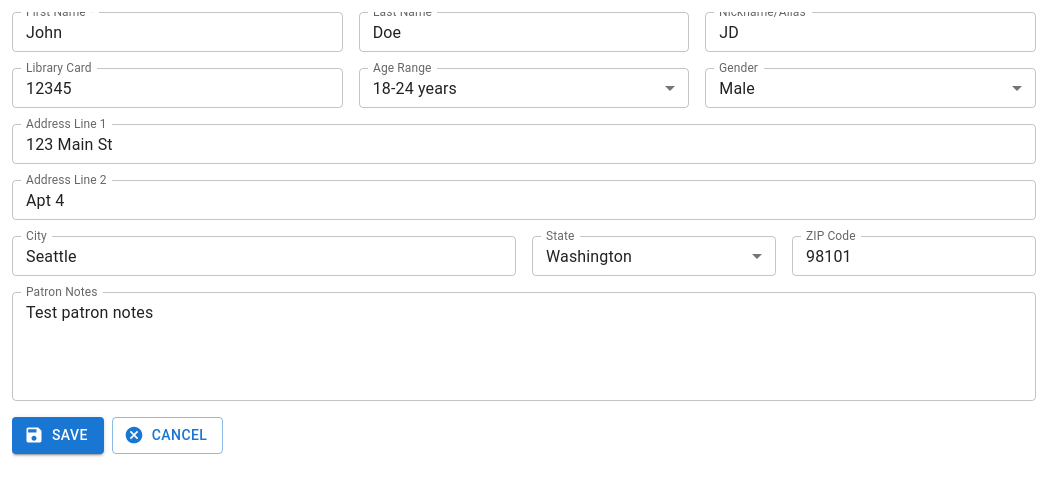
PatronInfoForm › Validation › should require first name
Clear the field labelled "First Name *": (177,32) [12, 12, 343, 52]
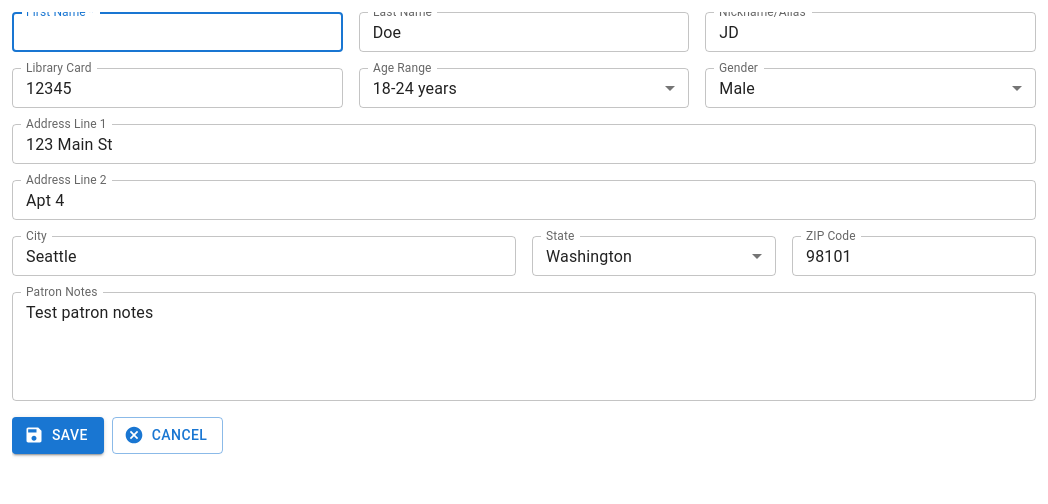
Click the button "Save": (58,435) [12, 417, 104, 454]
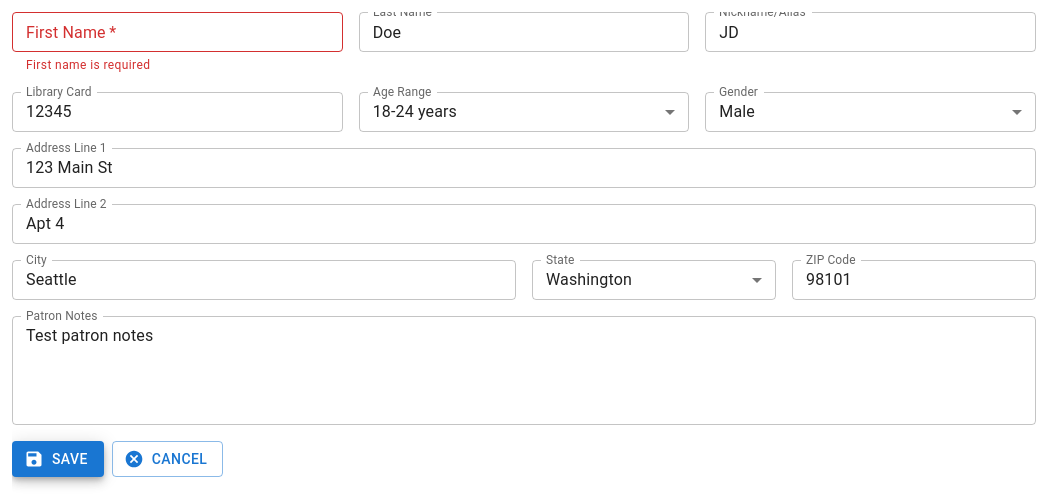
Expected: the text "First name is required" is shown, [26, 58, 150, 72]
